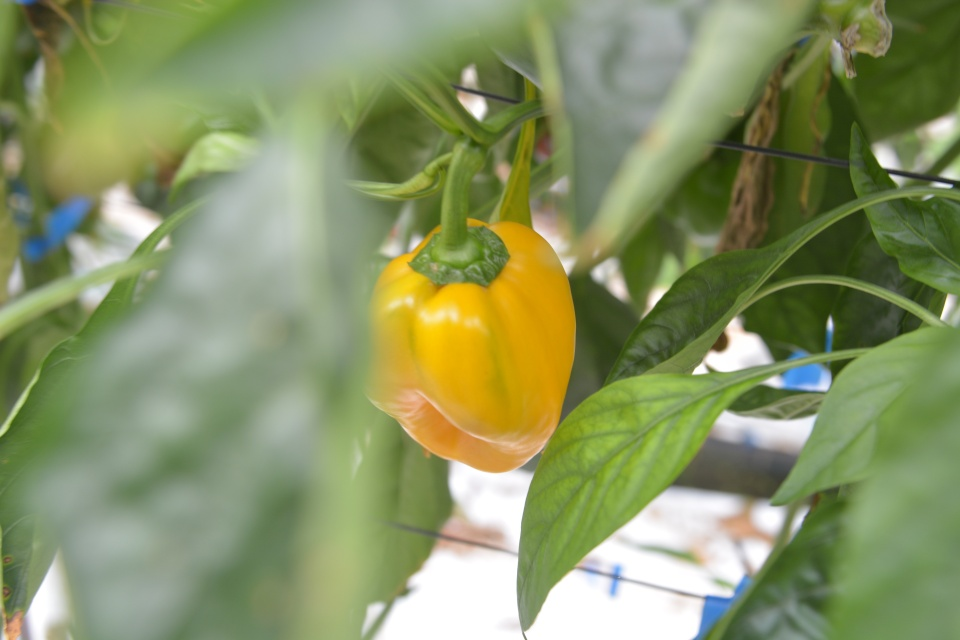fruit: (356, 212, 581, 476)
pedicle: (407, 224, 516, 288)
